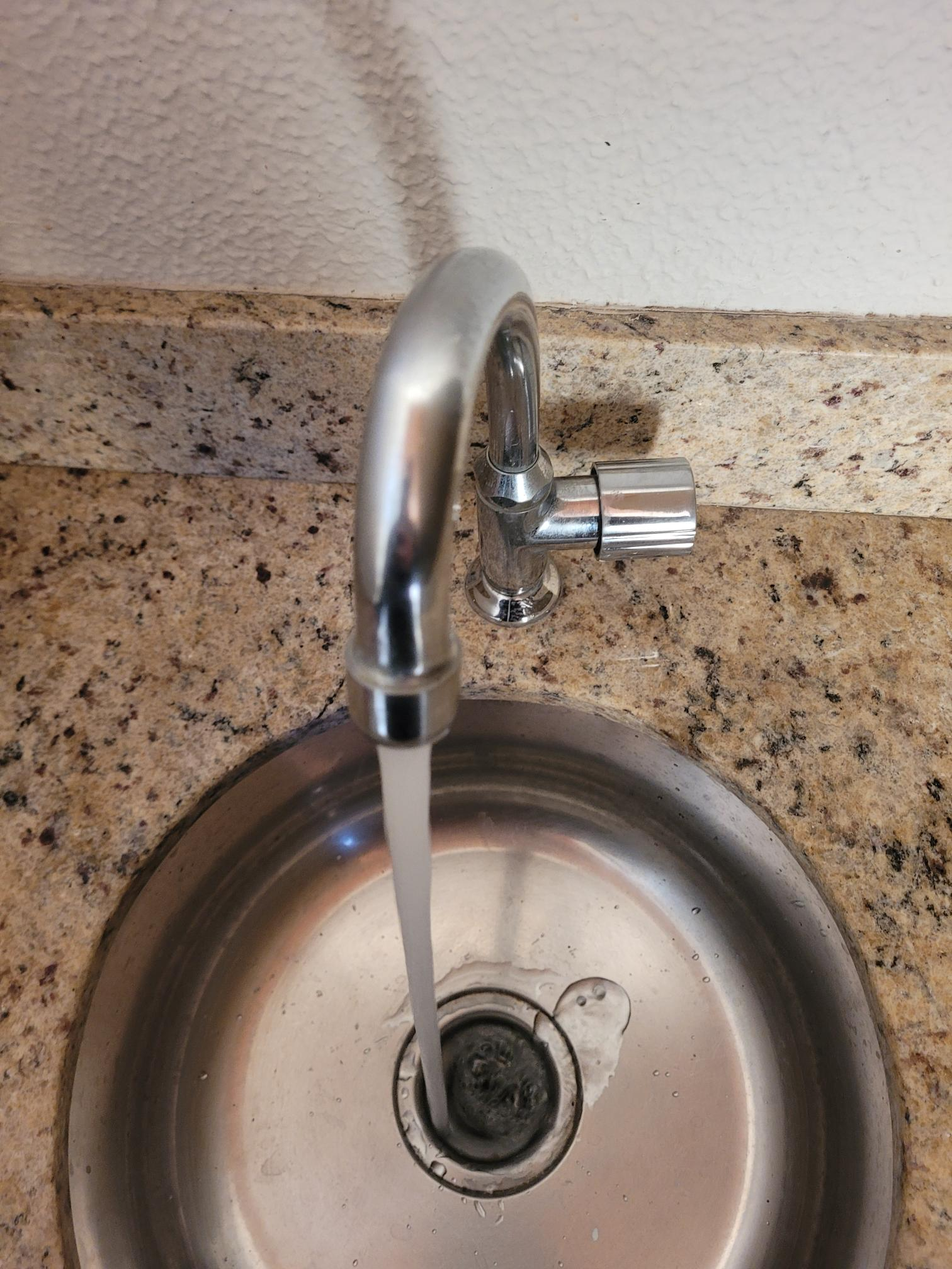torneira_aberta: (168, 168, 755, 1153)
